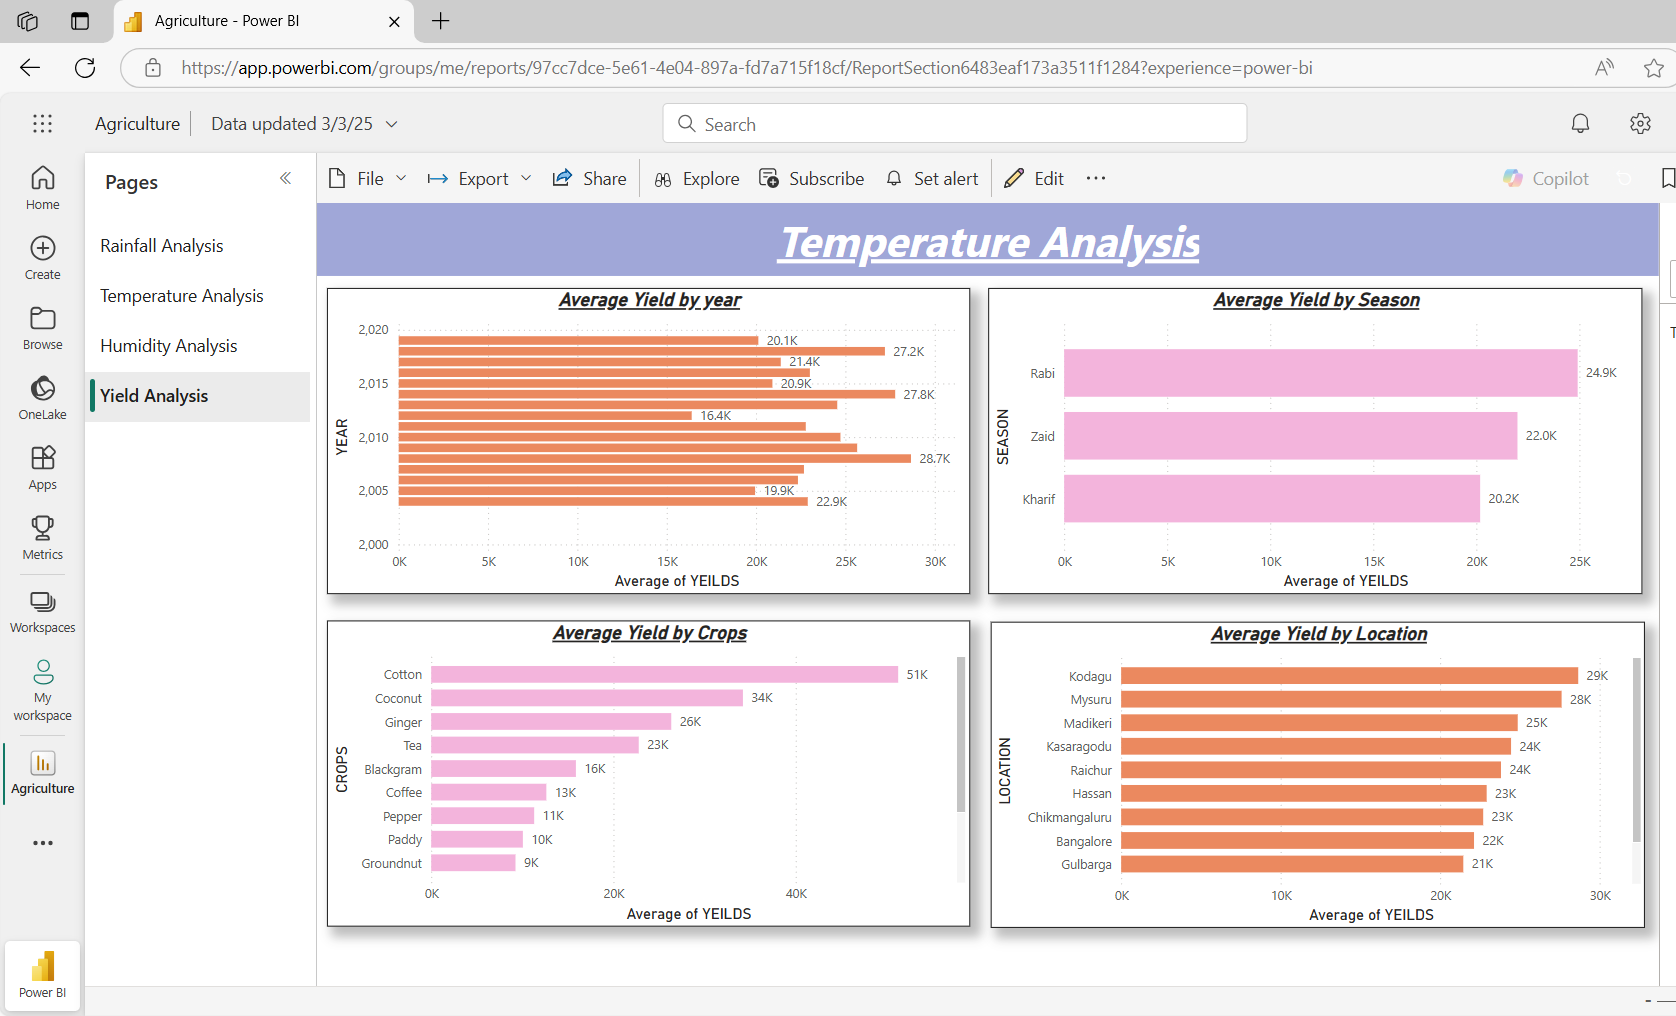

The dashboard page shown, as its layout file describes it:
{"tool":"powerbi","page":{"name":"Yield Analysis ","canvas":[1280,720],"ordinal":3},"visuals":[{"type":"shape","box":[0,0,1280.3,70],"z":0},{"type":"barChart","title":"Average Yield  by year","fields":{"Category":["AGRICULTURE.YEAR"],"Y":["Sum(AGRICULTURE.YEILDS)"]},"box":[9.6,81,613.4,292.3],"z":1000},{"type":"barChart","title":"Average Yield  by Season","fields":{"Category":["AGRICULTURE.SEASON"],"Y":["Sum(AGRICULTURE.YEILDS)"]},"box":[640.8,81,624.4,292.3],"z":2000},{"type":"barChart","title":"Average Yield  by Crops","fields":{"Category":["AGRICULTURE.CROPS"],"Y":["Sum(AGRICULTURE.YEILDS)"]},"box":[9.6,397.9,613.4,292.3],"z":3000},{"type":"barChart","title":"Average Yield  by Location","fields":{"Category":["AGRICULTURE.LOCATION"],"Y":["Sum(AGRICULTURE.YEILDS)"]},"box":[642.2,399.3,624.4,292.3],"z":4000}]}

Visuals, with their boxes on the page's 1280x720 design canvas (x1, y1, x2, y2). These are canvas units, not pixel positions in the 1676x1016 screenshot, which may show the page scaled, cropped or inside an application window:
shape: Rect(0, 0, 1280, 70)
"Average Yield  by year" barChart: Rect(10, 81, 623, 373)
"Average Yield  by Season" barChart: Rect(641, 81, 1265, 373)
"Average Yield  by Crops" barChart: Rect(10, 398, 623, 690)
"Average Yield  by Location" barChart: Rect(642, 399, 1267, 692)
